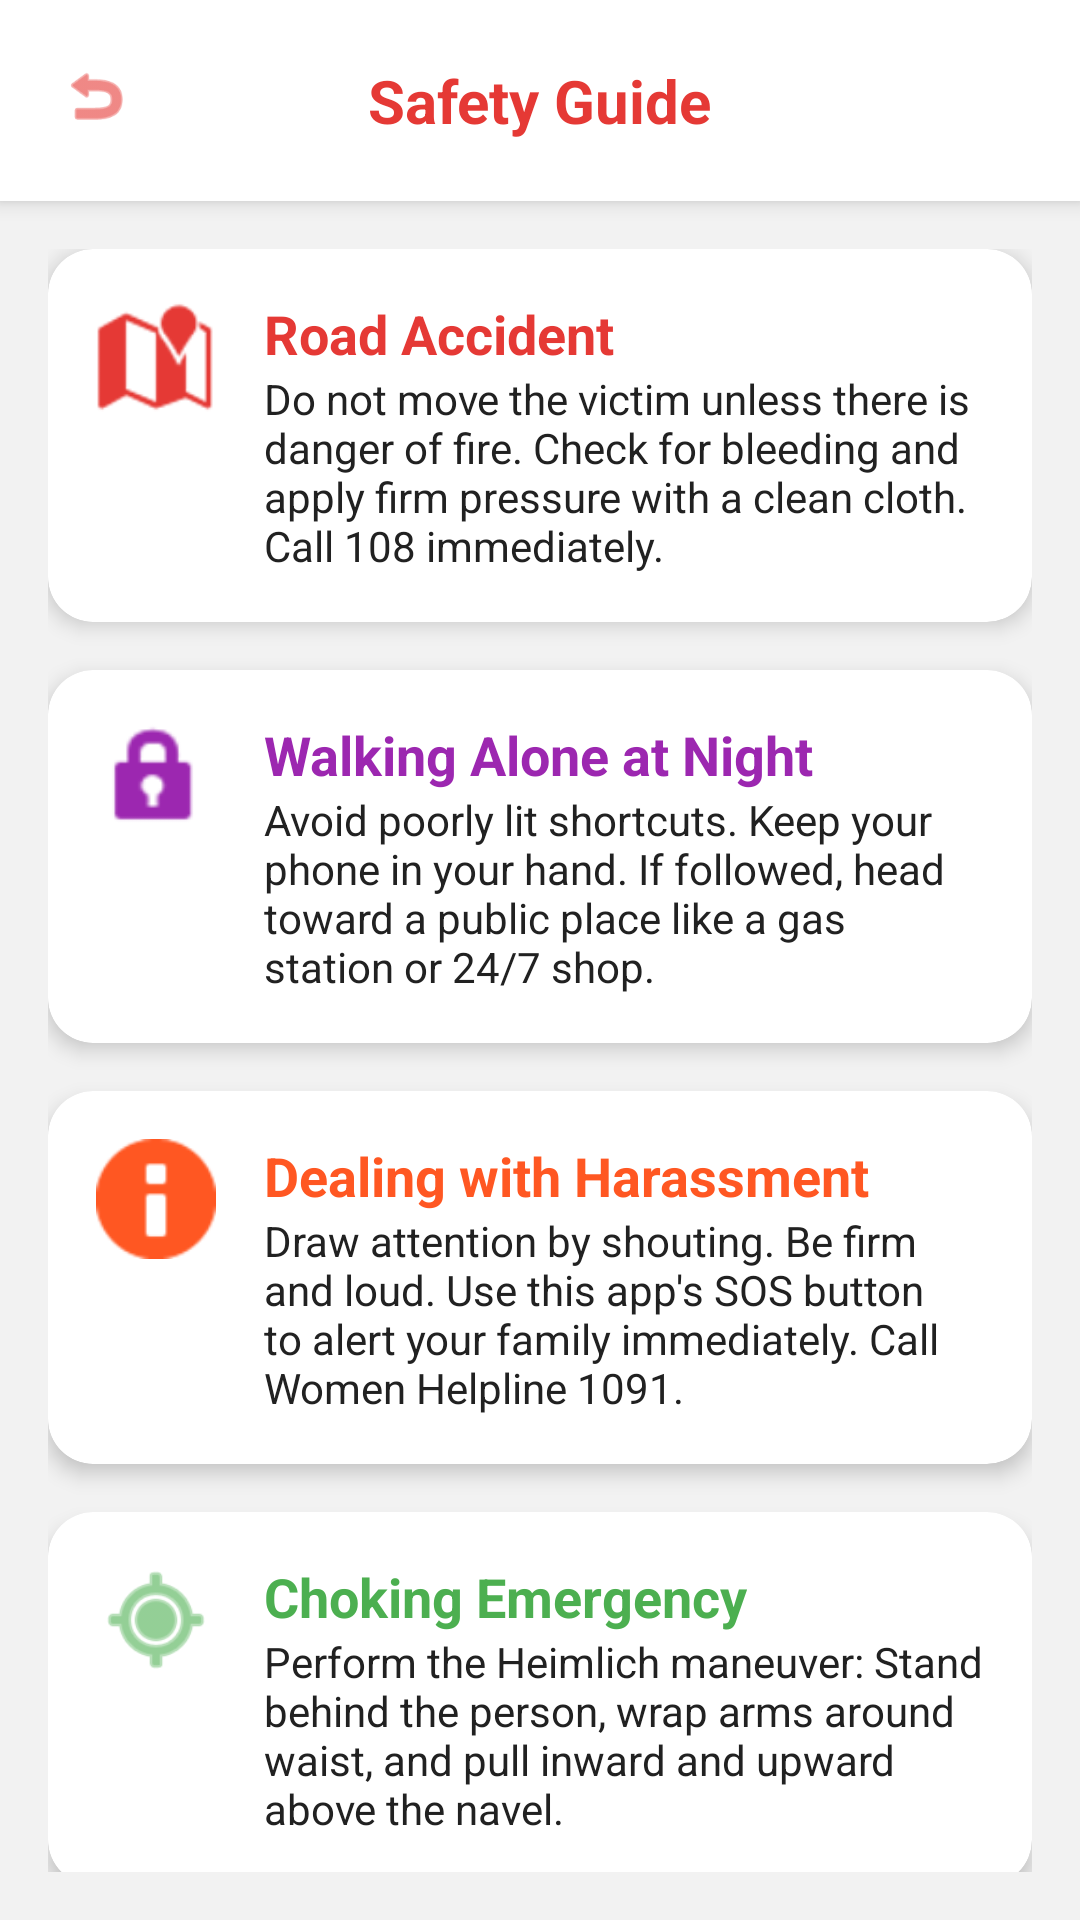

Where icons sit on this 1080px x 1920px app screen, as detection(x1, y1, x2, y2):
info: detection(96, 1139, 216, 1259)
lock idle: detection(114, 728, 193, 820)
map: detection(97, 304, 213, 410)
mylocation: detection(108, 1572, 204, 1668)
revert: detection(71, 73, 123, 120)
